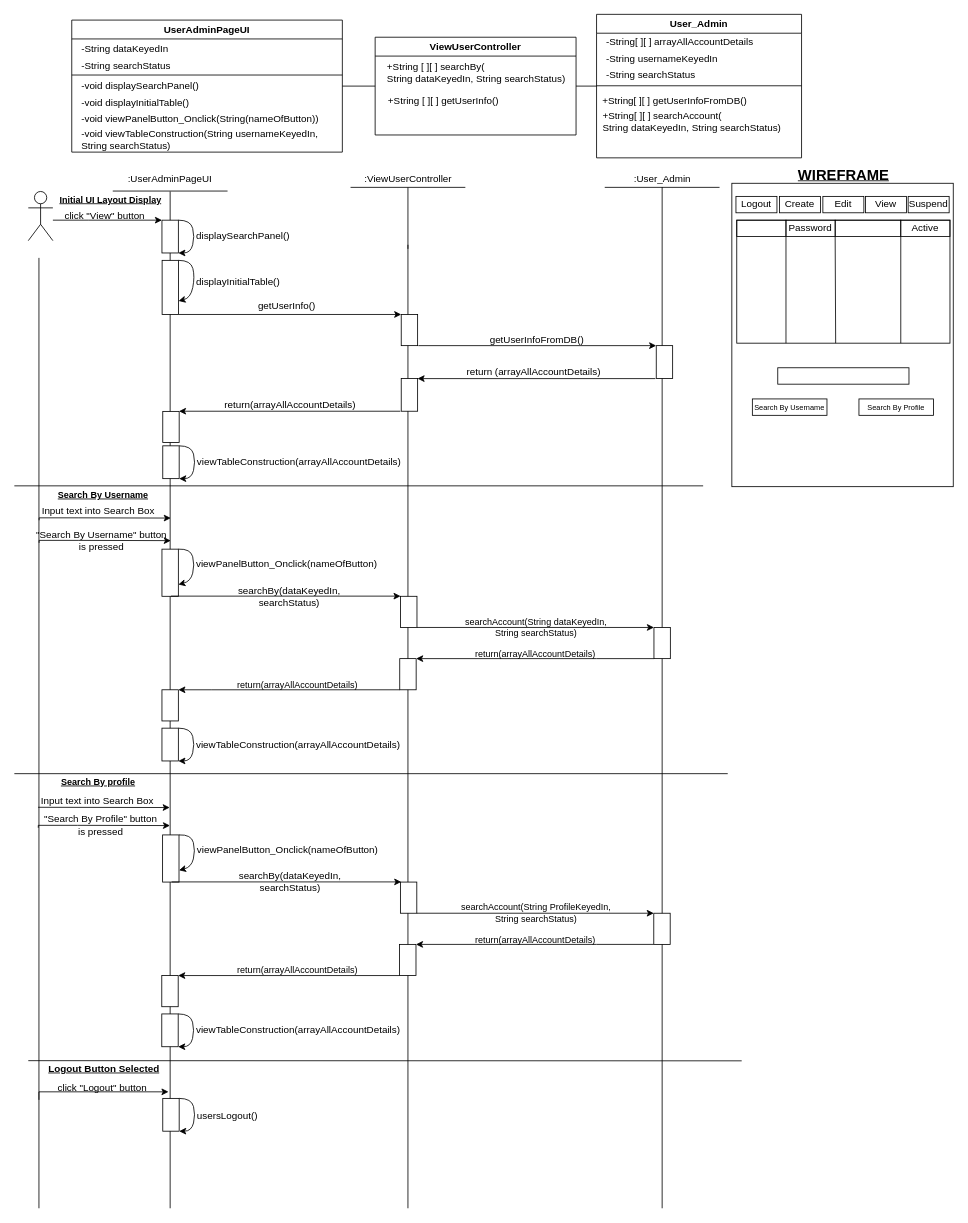
Some shapes in this 968 by 1223 pixel diagram are drawn without their labels. Each missing label, with the centre of its shape:
User Admin: (40,216)
User Profile: (867,228)
Username: (761,228)
